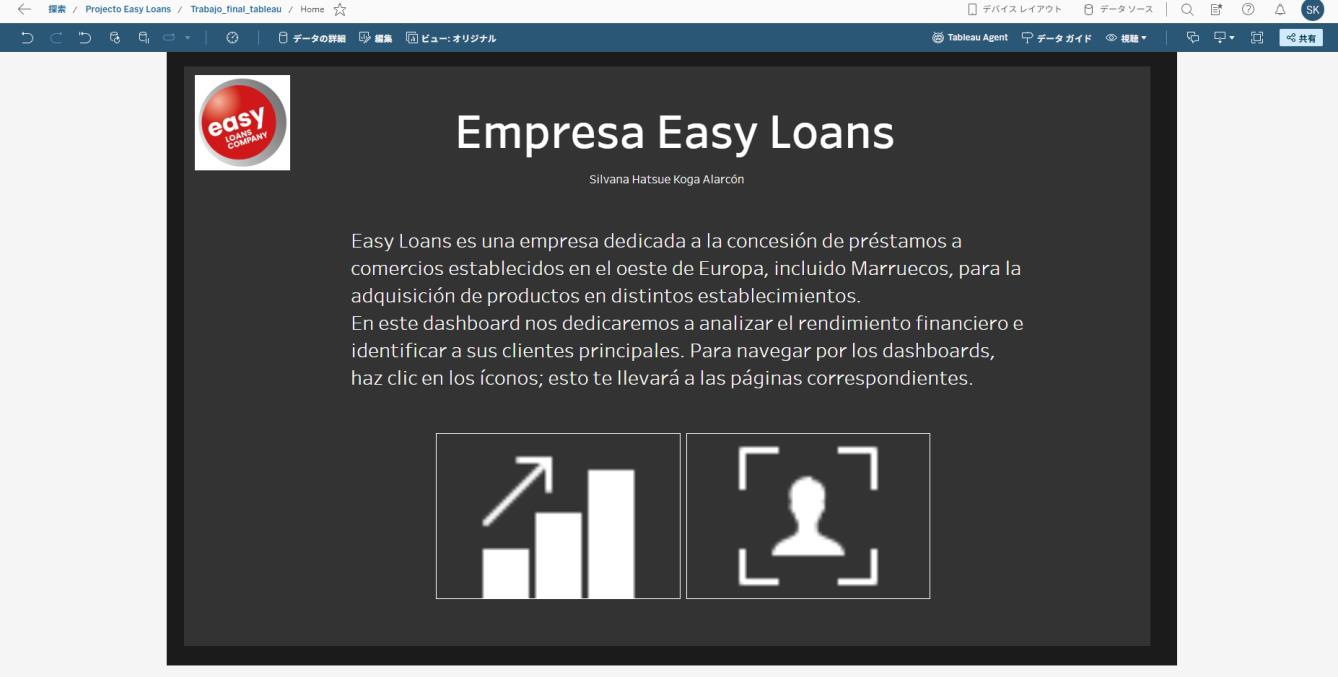

The dashboard page shown, as its layout file describes it:
{"tool":"tableau","page":{"name":"Home","canvas":[1400,850],"ordinal":1},"visuals":[{"type":"image","param":"Image/Easy_Loans_Logo.JPG","box":[39,32,149,132]},{"type":"text","box":[349,34,724,146]},{"type":"text","box":[485,160,416,30]},{"type":"text","box":[255,196,933,318]},{"type":"dashboard-object","box":[369,524,347,238]},{"type":"dashboard-object","box":[716,524,346,238]}]}

Visuals, with their boxes on the page's 1400x850 design canvas (x1, y1, x2, y2). These are canvas units, not pixel positions in the 1338x677 screenshot, which may show the page scaled, cropped or inside an application window:
image: bbox(39, 32, 188, 164)
text: bbox(349, 34, 1073, 180)
text: bbox(485, 160, 901, 190)
text: bbox(255, 196, 1188, 514)
dashboard-object: bbox(369, 524, 716, 762)
dashboard-object: bbox(716, 524, 1062, 762)
